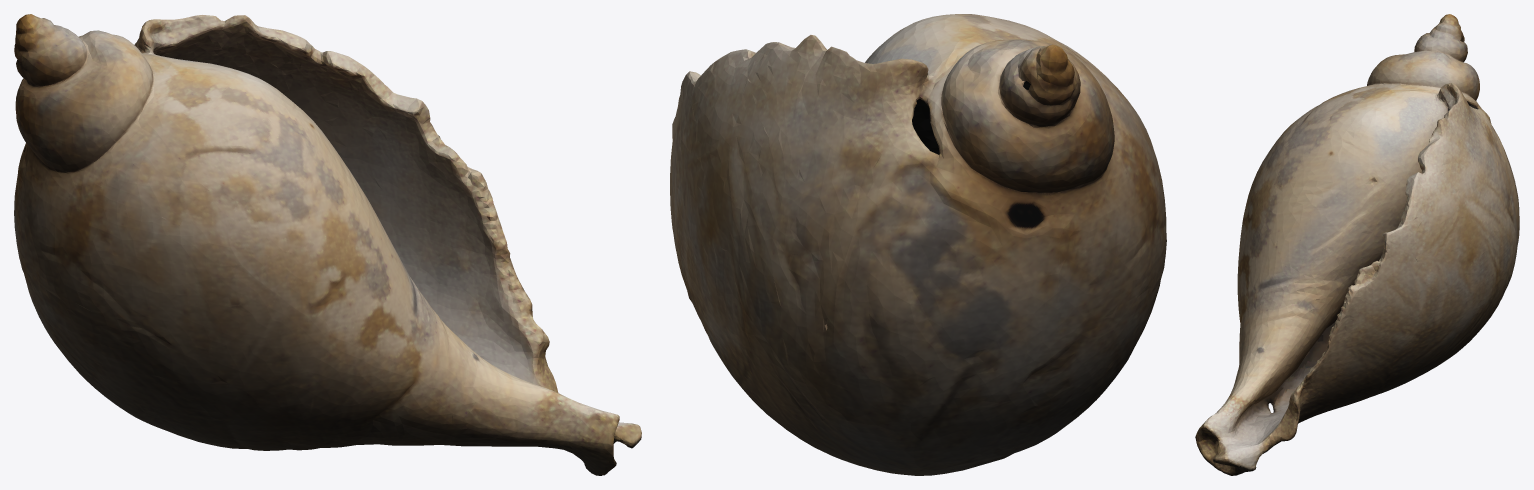
3 views of the same model, side by side, from view 1: azimuth 30°, elevation 25°; view 2: azimuth 150°, elevation 25°; view 3: azimuth 270°, elevation 25° (orthographic). The views are drawn at different scales.
Visible parts, largest first — view 1: world; view 2: world; view 3: world.
Boxes of the visible parts, left/top/right/bottom form: world: left=14, top=14, right=641, bottom=475; world: left=670, top=14, right=1166, bottom=475; world: left=1195, top=14, right=1519, bottom=475.
Size of the model in its own units: 0.8927 by 0.7964 by 0.7357.
Materials: 1 (1 with a texture image).
